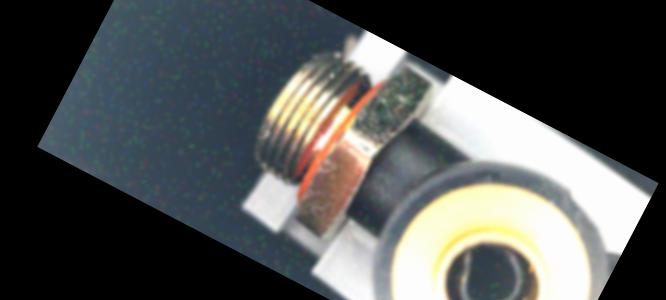bump: (550, 185, 616, 245)
off-centered: (441, 232, 542, 300)
white mark: (371, 178, 390, 198)
